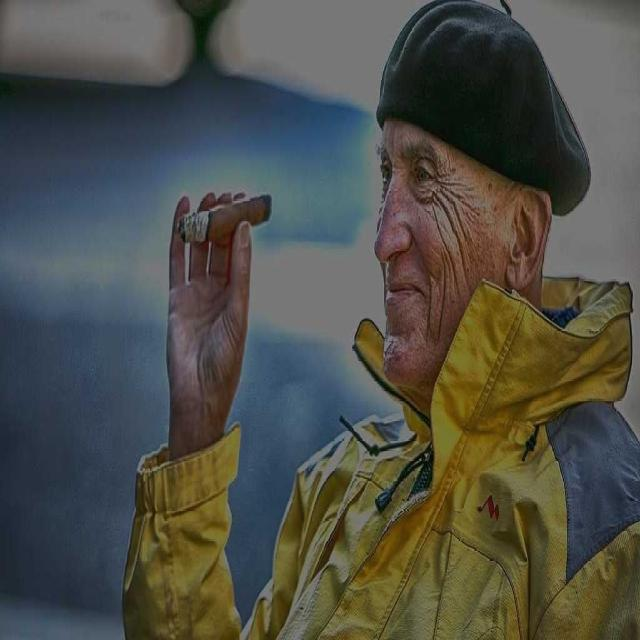Smooking: (173, 184, 277, 257)
